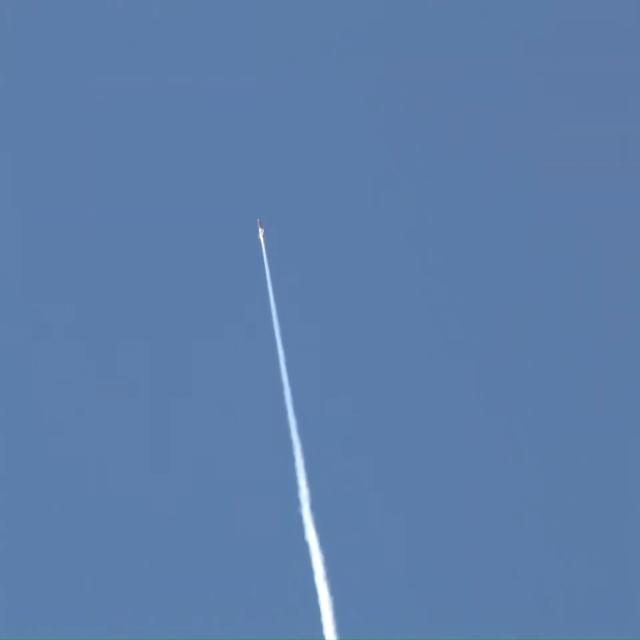Rocket: (256, 218, 264, 240)
